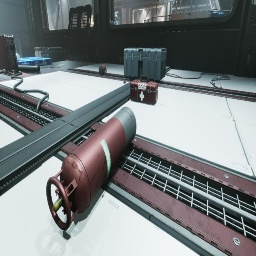0: (16, 54, 20, 61)
FireExtinguisher ]: (99, 65, 107, 74)
FirstAidBox ,: (130, 75, 158, 105)
NitrogenTank ,: (46, 106, 137, 230)
